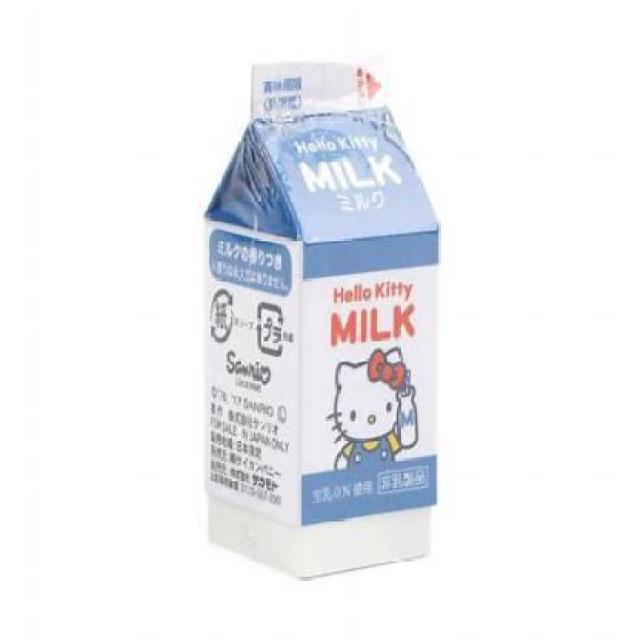drink carton: (200, 60, 437, 579)
